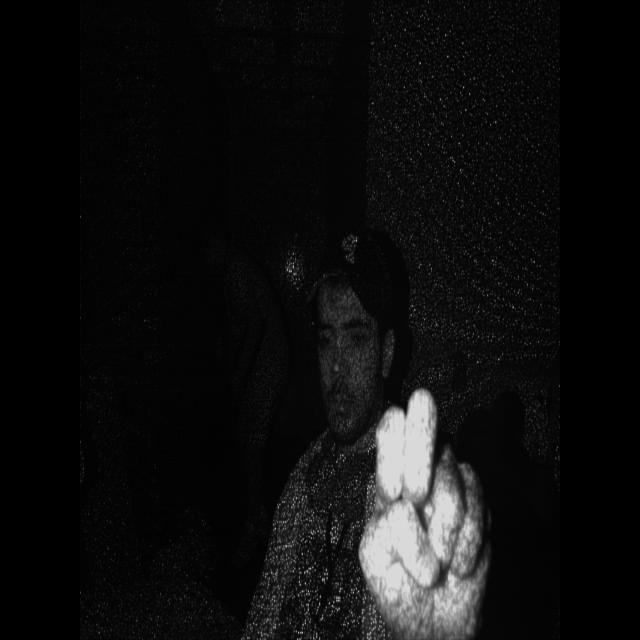S: (348, 374, 503, 640)
